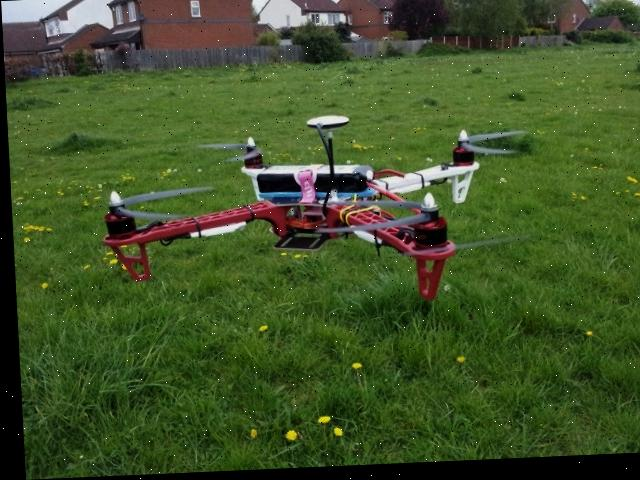drone: (50, 100, 547, 337)
